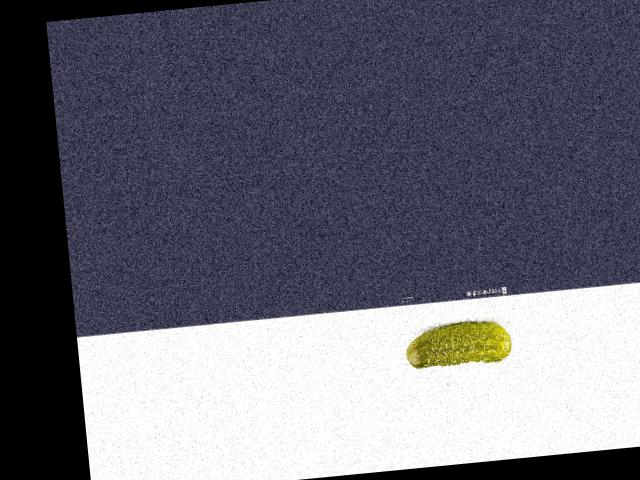cucumber: (402, 317, 512, 370)
